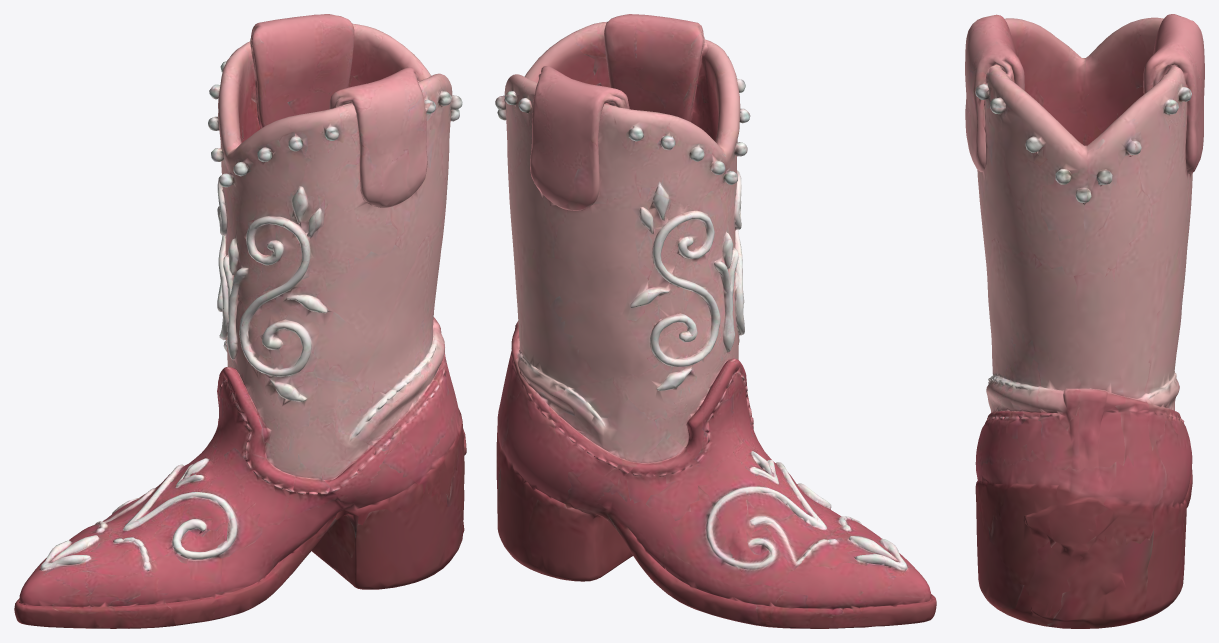
3 views of the same model, side by side, from view 1: azimuth 30°, elevation 25°; view 2: azimuth 150°, elevation 25°; view 3: azimuth 270°, elevation 25° (orthographic). The views are drawn at different scales.
Bounding box in the file's own units: 1.71 × 1.9 × 0.7613.
1 material, 1 textured.
